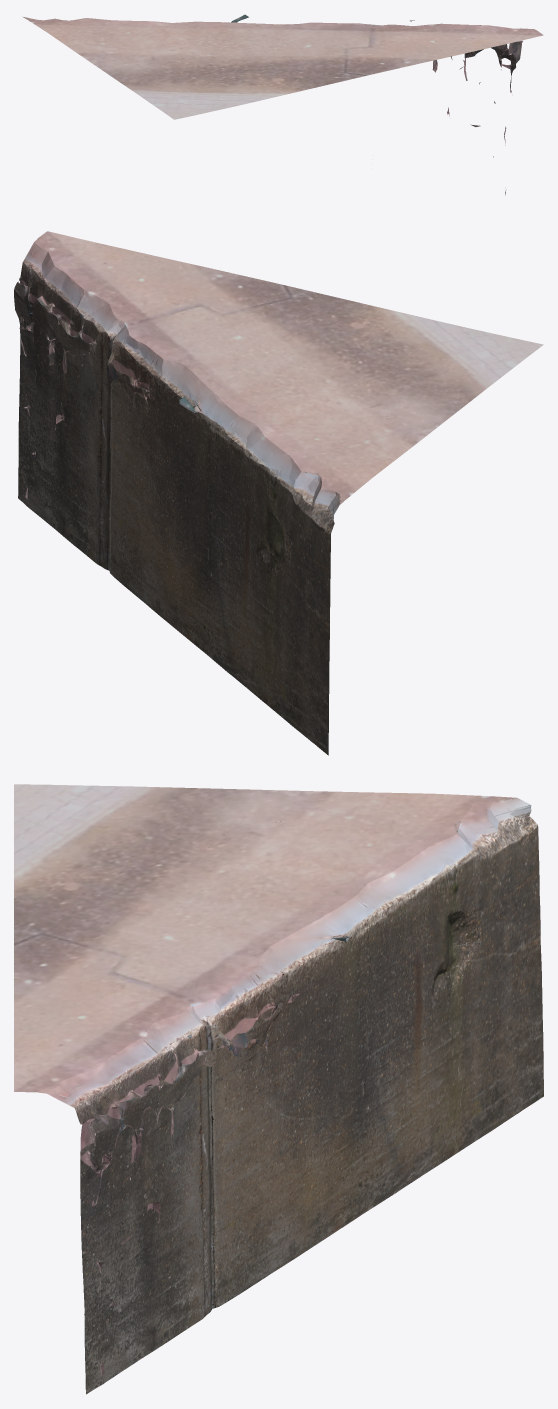
3 views of the same model, one above another, from view 1: azimuth 30°, elevation 25°; view 2: azimuth 150°, elevation 25°; view 3: azimuth 270°, elevation 25° (orthographic). The views are drawn at different scales.
Size of the model in its own units: 4.18 by 2.04 by 3.14.
2 materials, 2 textured.
